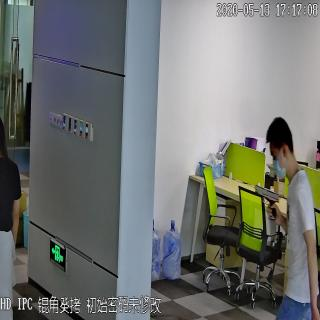gun: (253, 182, 280, 221)
